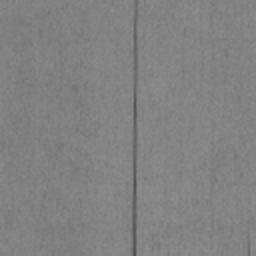Scratches: (131, 0, 138, 256)
